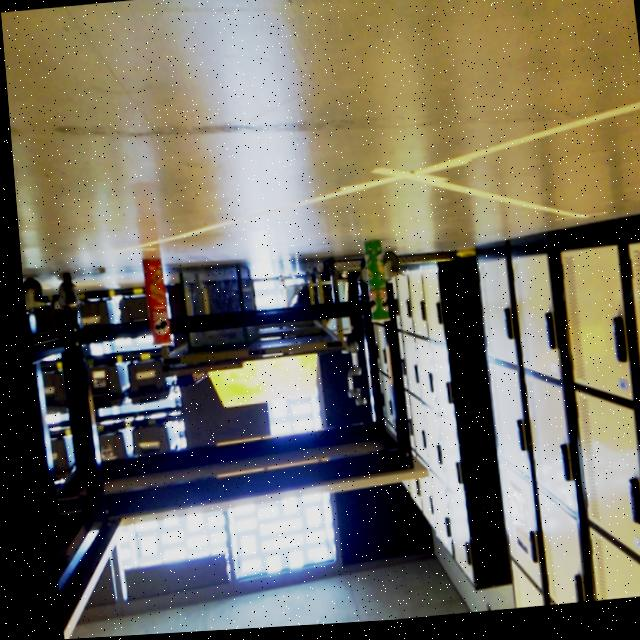greenpringles: (344, 244, 394, 339)
redpringles: (119, 251, 180, 356)
